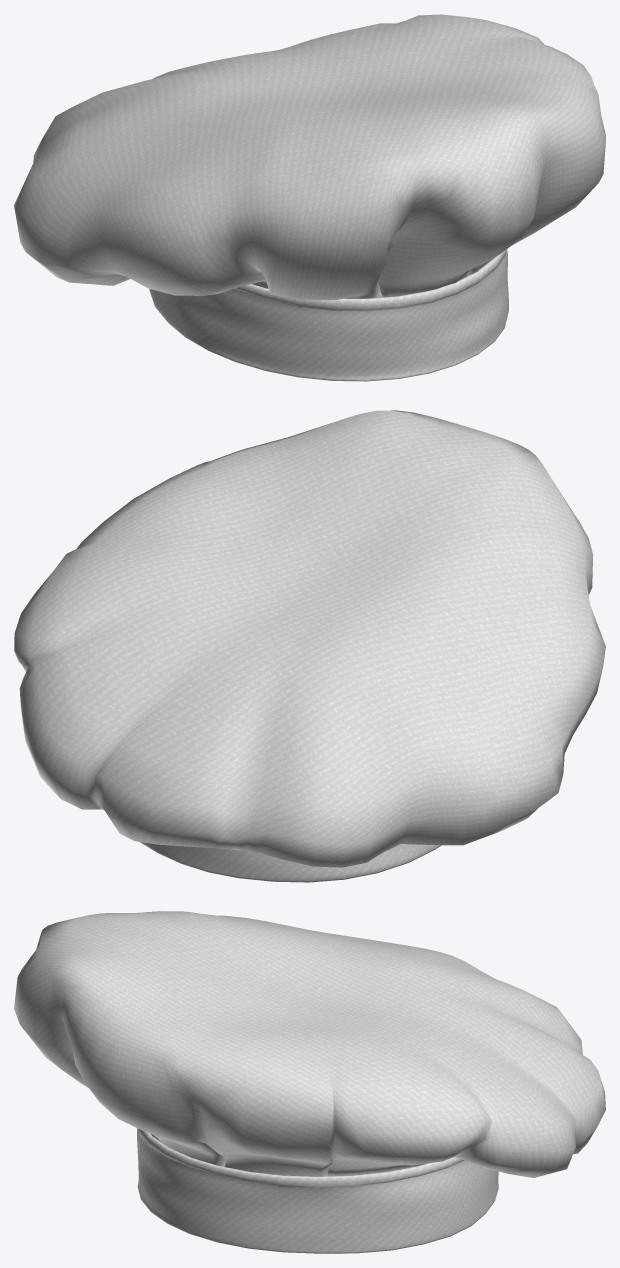
File: chefhat.glb
3 renders of one model, top to bottom at view 1: azimuth 30°, elevation 25°; view 2: azimuth 150°, elevation 25°; view 3: azimuth 270°, elevation 25°, orthographic. The views are drawn at different scales.
Visible parts, largest first — view 1: ChefHatOBJ.001; view 2: ChefHatOBJ.001; view 3: ChefHatOBJ.001.
Part boxes in pixels (box(x1,y1,x2,y2)): ChefHatOBJ.001: box(14, 14, 605, 381); ChefHatOBJ.001: box(14, 410, 605, 882); ChefHatOBJ.001: box(14, 911, 605, 1253).
Bounding box in the file's own units: 0.2957 × 0.1543 × 0.3299.
1 material, 1 textured.
